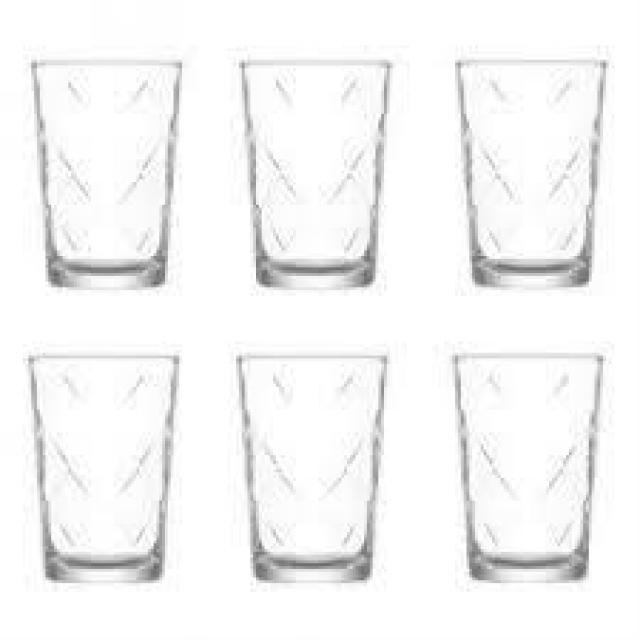non-organic waste: (25, 60, 185, 293)
